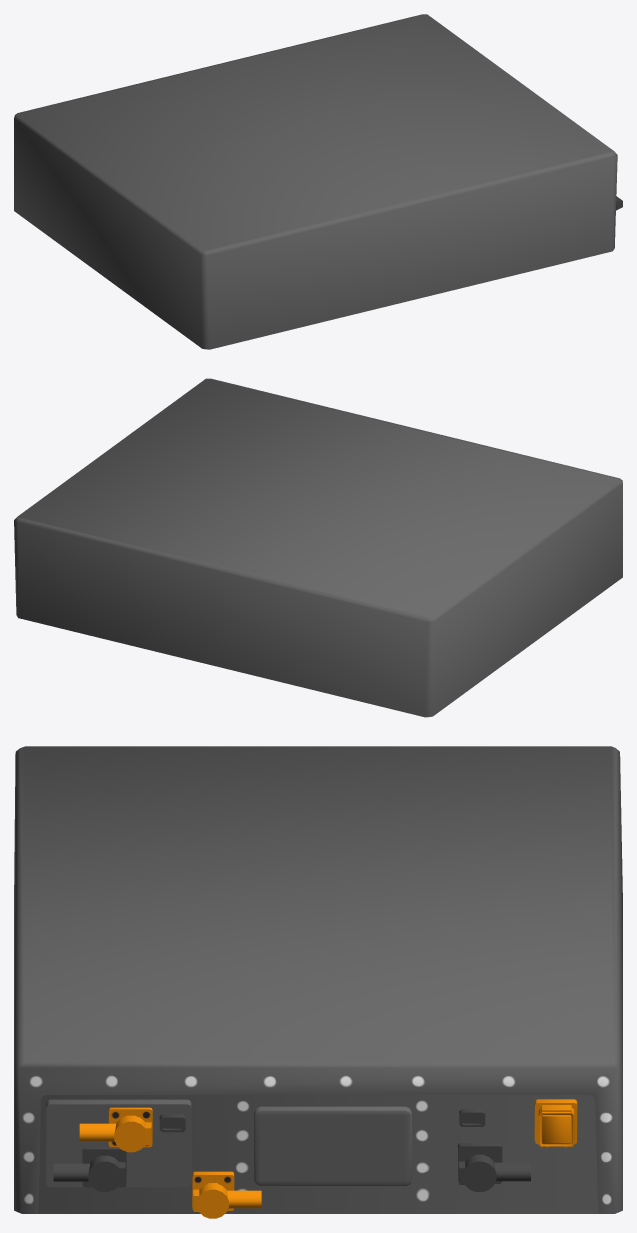
3 views of the same model, one above another, from view 1: azimuth 30°, elevation 25°; view 2: azimuth 150°, elevation 25°; view 3: azimuth 270°, elevation 25° (orthographic). The views are drawn at different scales.
Parts seen in each view (by area): view 1: PS06; view 2: PS06; view 3: PS06.
Part boxes in pixels (bbox=[...]): PS06: bbox=[14, 14, 622, 349]; PS06: bbox=[14, 378, 622, 717]; PS06: bbox=[14, 746, 622, 1218].
Size of the model in its own units: 0.9564 by 0.2041 by 0.74.
Materials: 1 (1 with a texture image).
